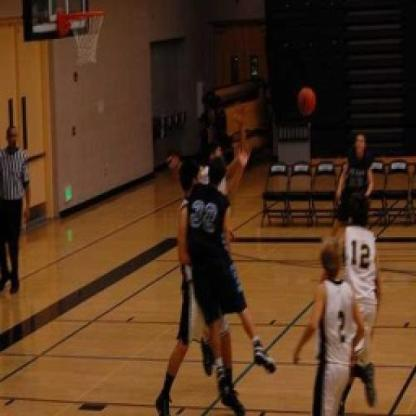basketball: (294, 86, 318, 111)
